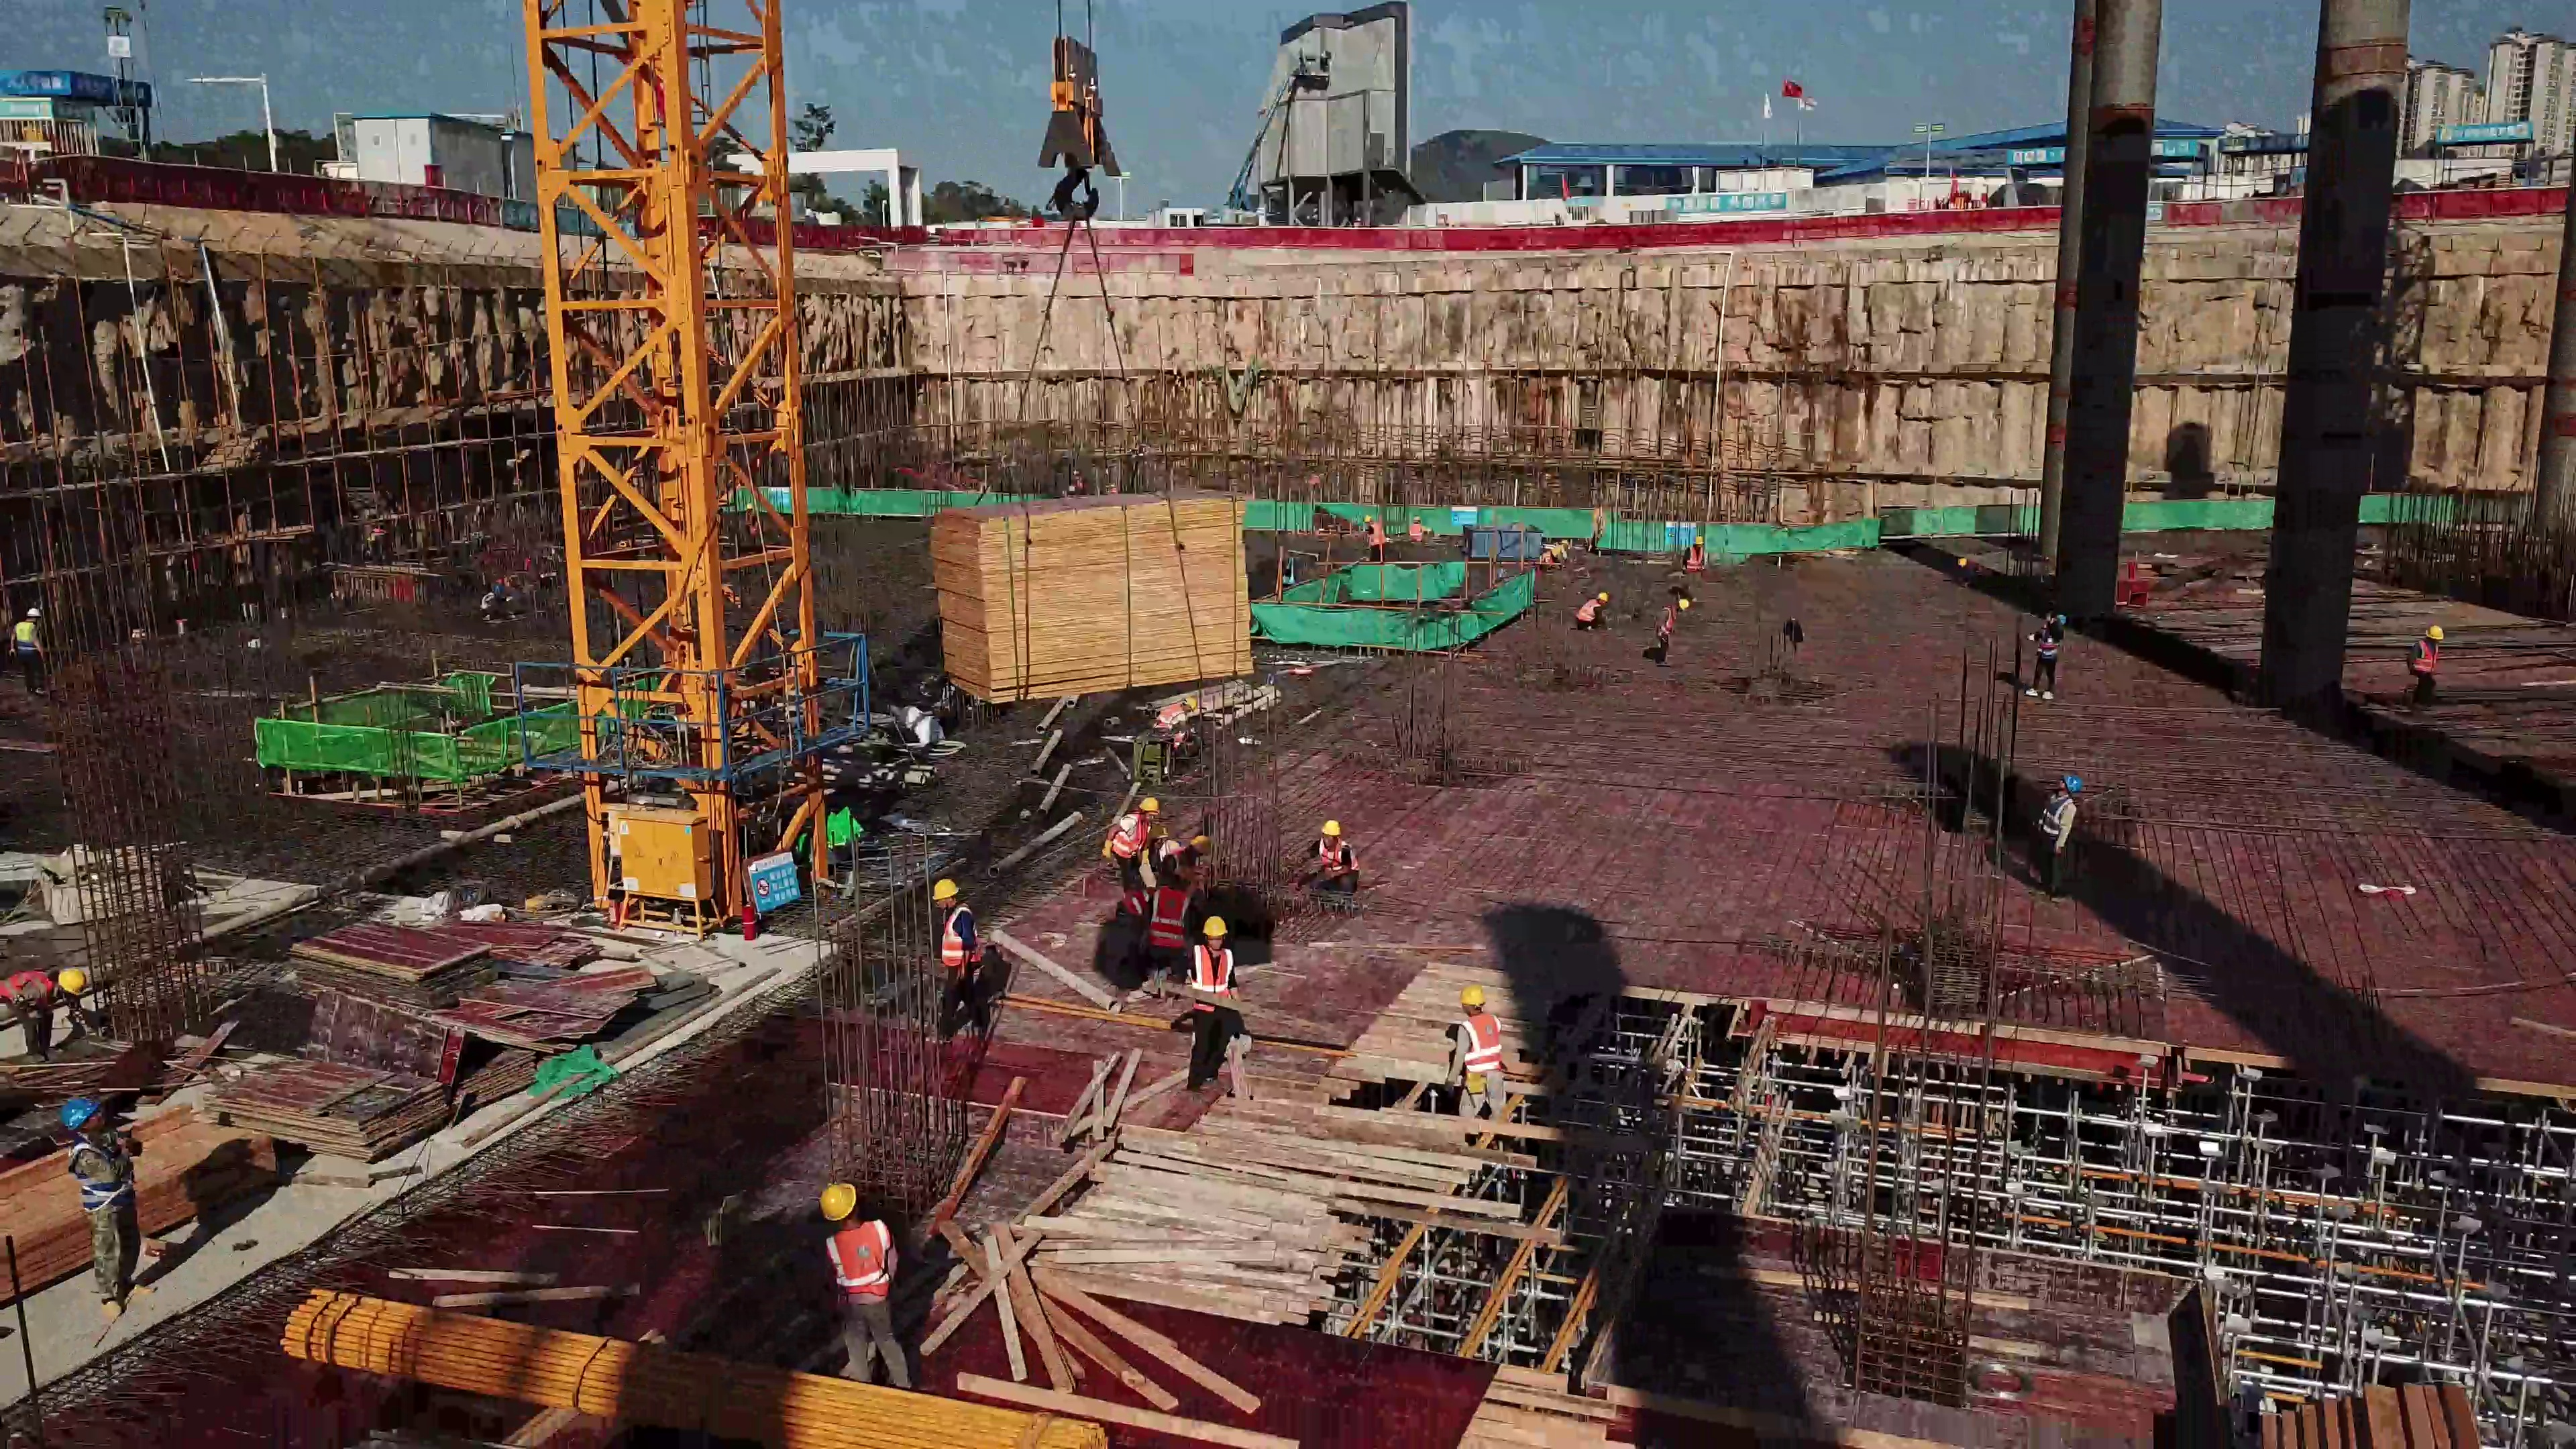helmet: (820, 1183, 877, 1228), (57, 967, 91, 1010), (1456, 984, 1491, 1018), (64, 1098, 97, 1128), (1195, 910, 1228, 937), (932, 872, 960, 902), (1192, 834, 1217, 861), (1318, 818, 1347, 841), (1143, 790, 1164, 815), (2064, 774, 2085, 799), (21, 602, 42, 620), (2427, 623, 2444, 643), (491, 583, 508, 597), (1184, 696, 1199, 712), (1597, 590, 1611, 603), (2057, 610, 2068, 624), (1677, 598, 1687, 611), (1957, 556, 1967, 568), (1364, 512, 1374, 523), (1693, 537, 1703, 545), (1558, 540, 1570, 548), (1413, 515, 1421, 523)
person: (808, 1177, 920, 1401), (56, 1099, 154, 1334), (932, 871, 1004, 1047), (1183, 906, 1247, 1102), (1444, 977, 1508, 1134), (2017, 766, 2086, 897), (2396, 610, 2469, 732), (5, 949, 99, 1026), (2024, 609, 2079, 712), (1301, 815, 1366, 902), (11, 603, 60, 696), (1157, 862, 1193, 976), (1109, 796, 1156, 882), (1149, 697, 1208, 754), (1652, 590, 1688, 674), (1682, 529, 1715, 598), (1576, 586, 1617, 639), (476, 580, 516, 629), (1356, 513, 1394, 565), (1167, 833, 1210, 873), (1407, 507, 1441, 553), (1538, 540, 1576, 575), (1145, 824, 1165, 879)
vest: (830, 1224, 907, 1291), (71, 1132, 131, 1208), (938, 906, 985, 967), (7, 961, 53, 1013), (1195, 949, 1238, 1006), (1468, 1013, 1500, 1077), (2034, 798, 2074, 847), (1315, 840, 1368, 876), (1161, 889, 1190, 949), (15, 625, 59, 666), (1119, 817, 1146, 872), (2037, 627, 2061, 662), (1652, 606, 1676, 637), (1124, 892, 1155, 914), (1155, 700, 1183, 723), (2417, 643, 2439, 671), (1578, 598, 1597, 625), (1968, 558, 1993, 576), (1689, 549, 1706, 573), (1370, 525, 1385, 547), (1411, 525, 1425, 544), (1540, 551, 1554, 566)
